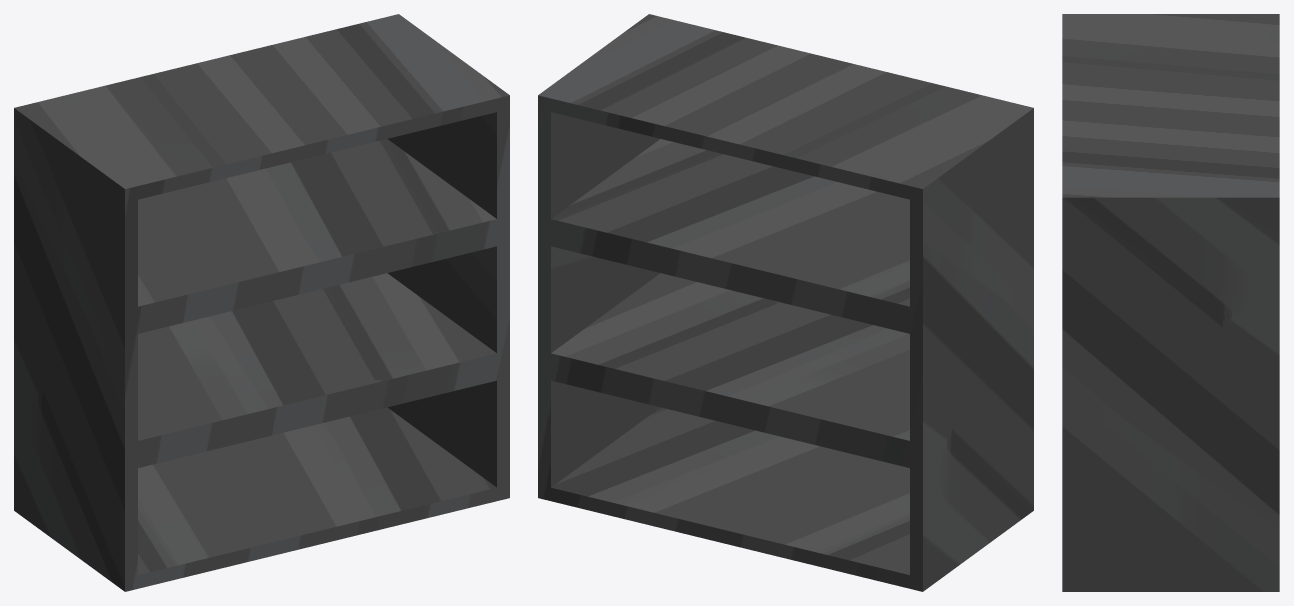
File: Prop_Shelf1.glb
3 views of the same model, side by side, from view 1: azimuth 30°, elevation 25°; view 2: azimuth 150°, elevation 25°; view 3: azimuth 270°, elevation 25° (orthographic). The views are drawn at different scales.
Parts seen in each view (by area): view 1: Prop_Shelf; view 2: Prop_Shelf; view 3: Prop_Shelf.
Part boxes in pixels (box(x1,y1,x2,y2)): Prop_Shelf: box(14, 14, 509, 591); Prop_Shelf: box(538, 14, 1033, 591); Prop_Shelf: box(1062, 14, 1279, 591).
Size of the model in its own units: 2 by 2 by 1.
Materials: 1 (1 with a texture image).
